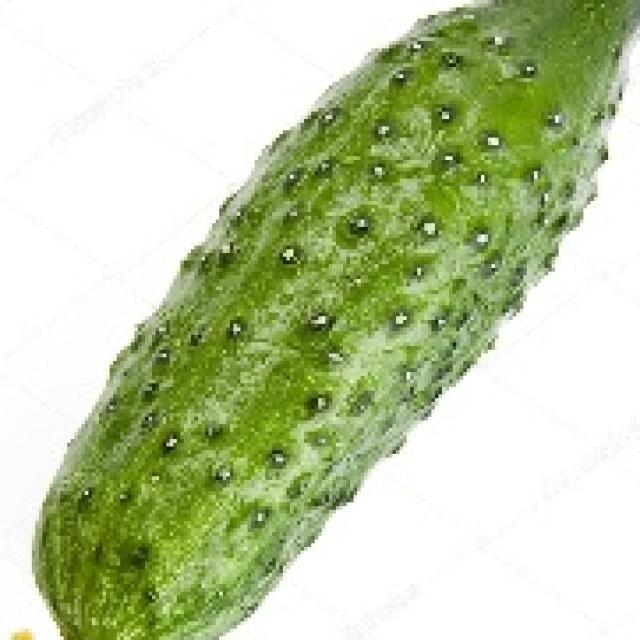cucumber: (28, 0, 640, 640)
